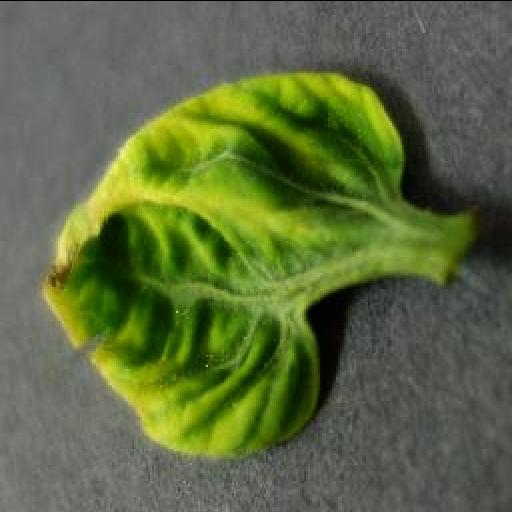disease_tomato: (40, 68, 406, 458)
